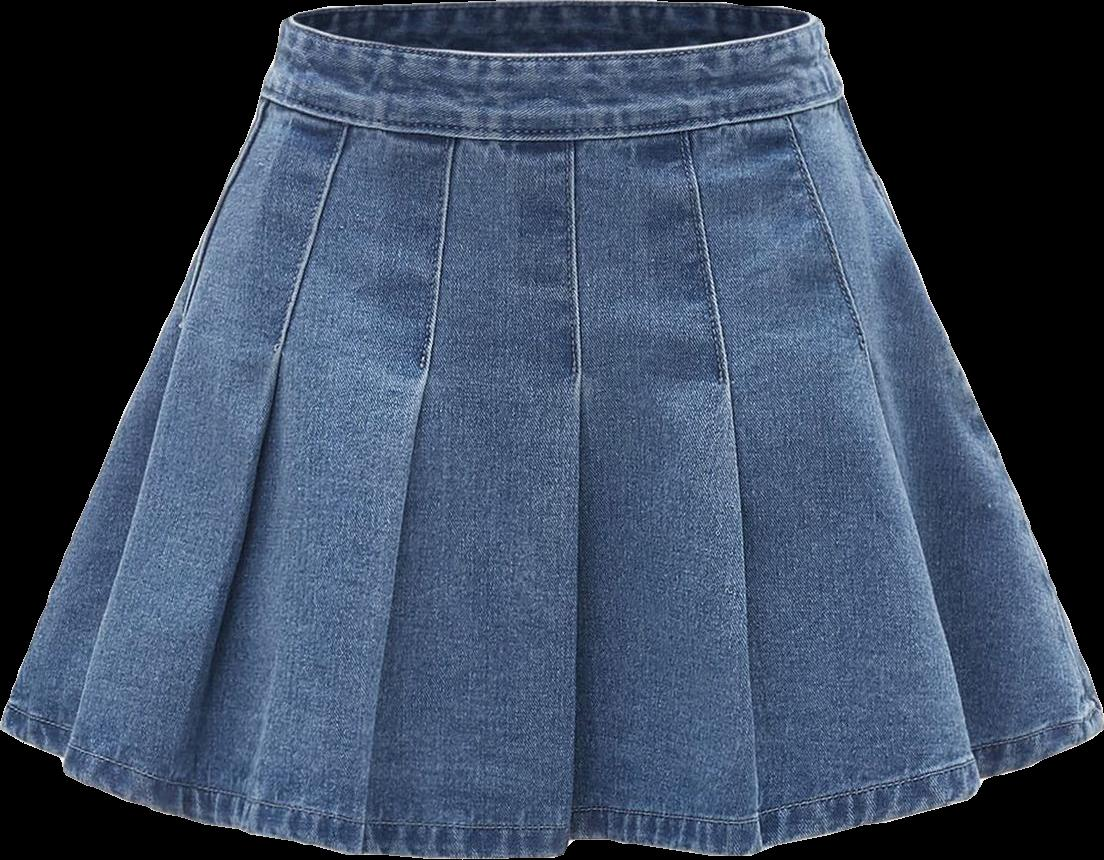Hemline: (0, 720, 1103, 859)
Waistline: (256, 89, 851, 146), (283, 13, 821, 67)
